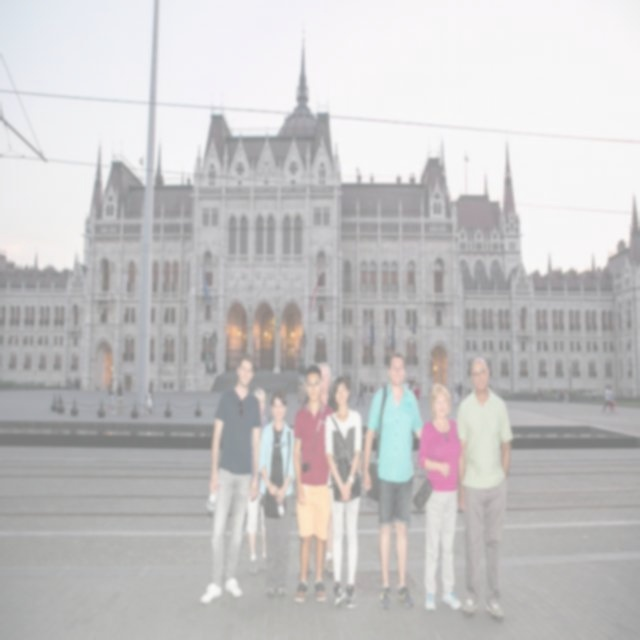pessoa: (195, 348, 266, 606), (362, 352, 427, 612), (451, 354, 512, 630), (411, 380, 467, 614), (292, 363, 336, 604), (324, 374, 364, 610), (294, 362, 336, 566), (256, 388, 296, 598), (104, 374, 151, 414), (252, 384, 268, 428), (599, 379, 616, 415), (404, 378, 422, 404), (530, 380, 546, 408), (64, 370, 85, 390), (556, 384, 570, 412), (452, 378, 464, 406), (356, 376, 366, 408)
